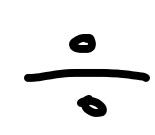div: (24, 34, 150, 117)
